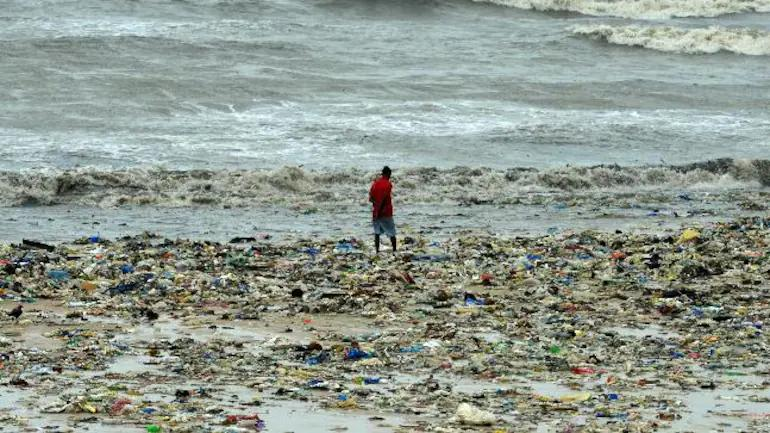garbage: (0, 231, 770, 433)
